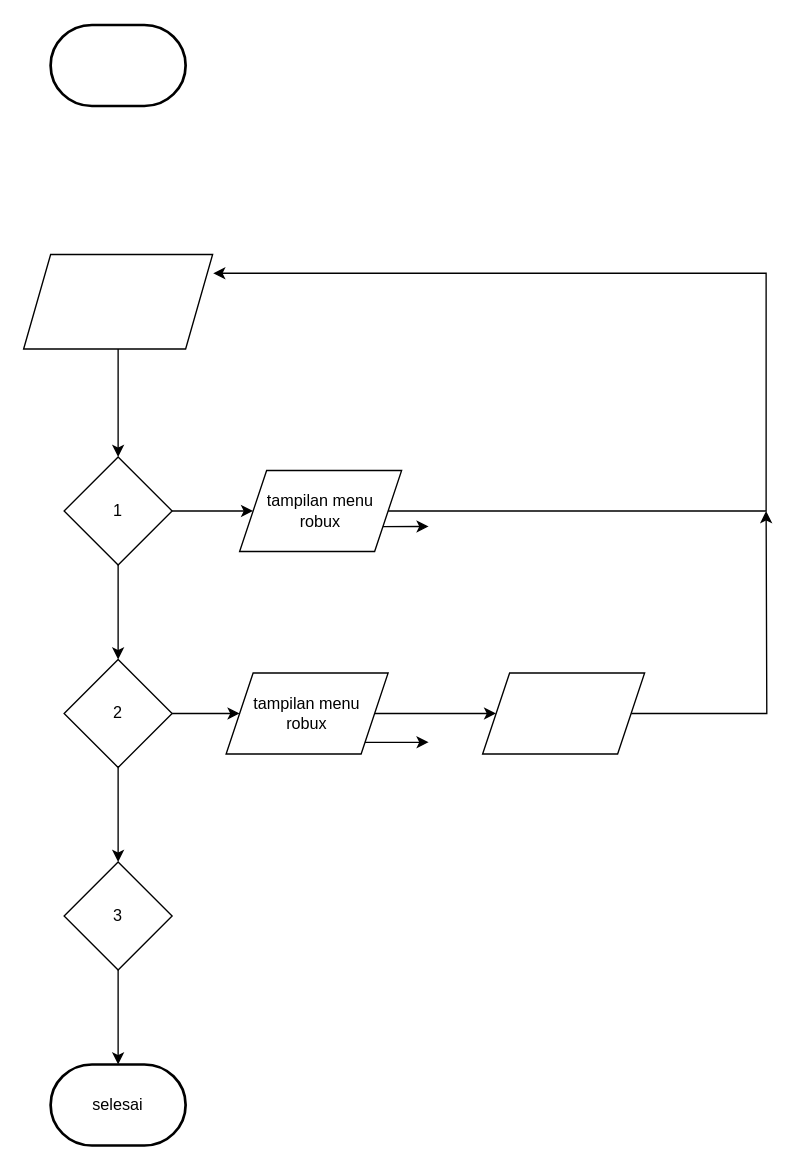
Some shapes in this 802 by 1169 pixel diagram are drawn without their labels. The centre of each missing label's shape, as x and y in pixels:
Masukkan nomor item yang ingin dibeli: the point at 563,713
Menu User 1. Lihat Robux 2. Beli Robux 3. Logout dan Keluar Program: the point at 117,301
mulai: the point at 117,65
